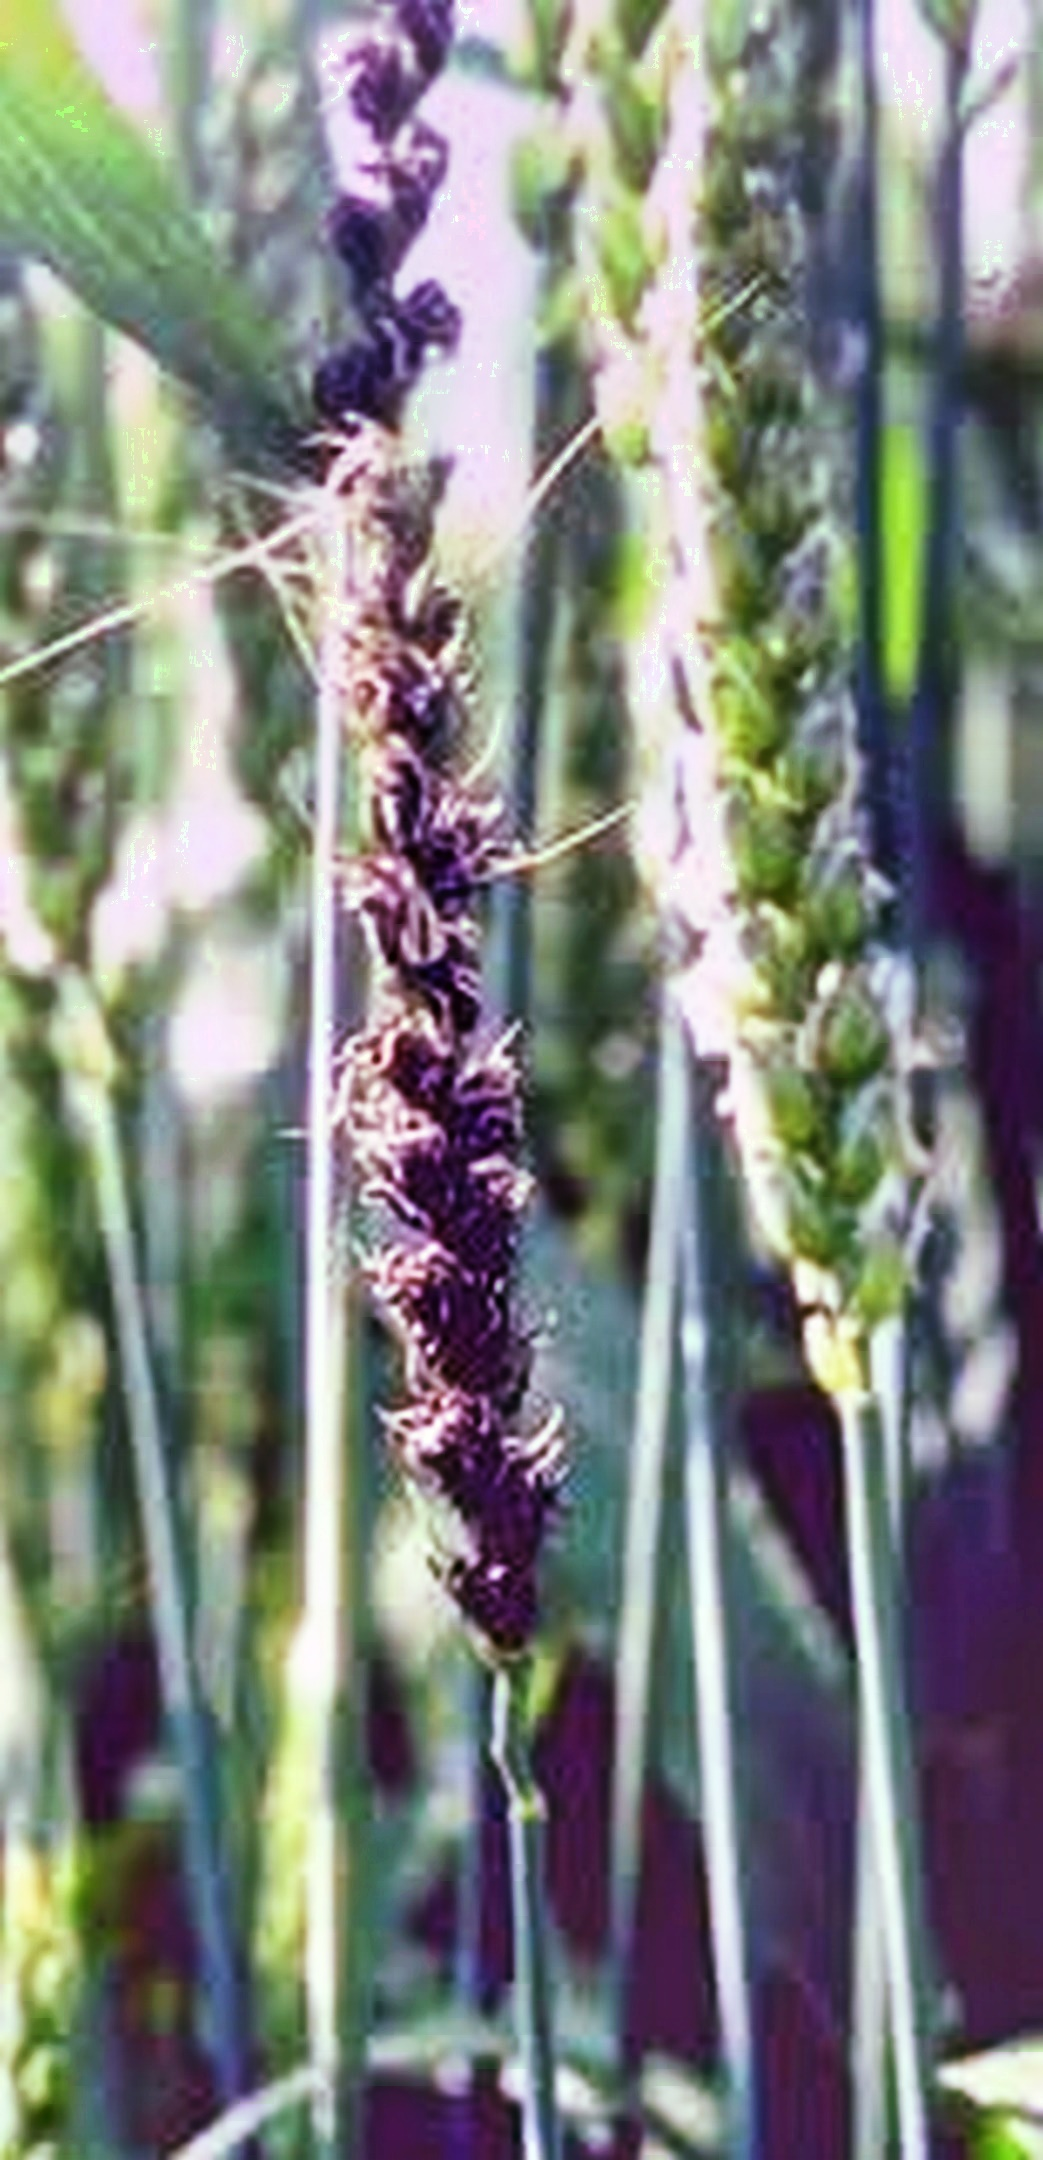Wheat Loose Smut: (316, 419, 601, 1641)
